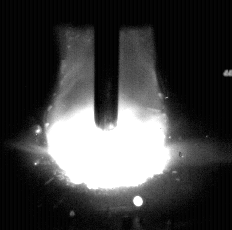arame: (95, 0, 119, 130)
poca: (45, 0, 166, 230)
